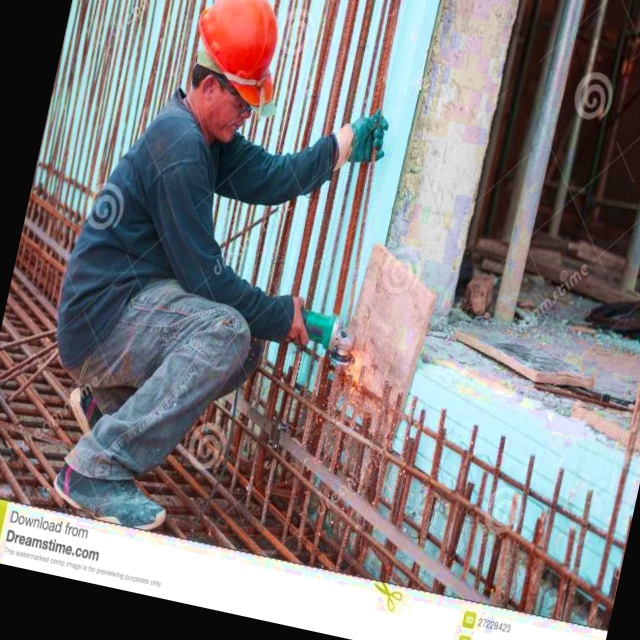Con_Casco: (175, 0, 298, 147)
